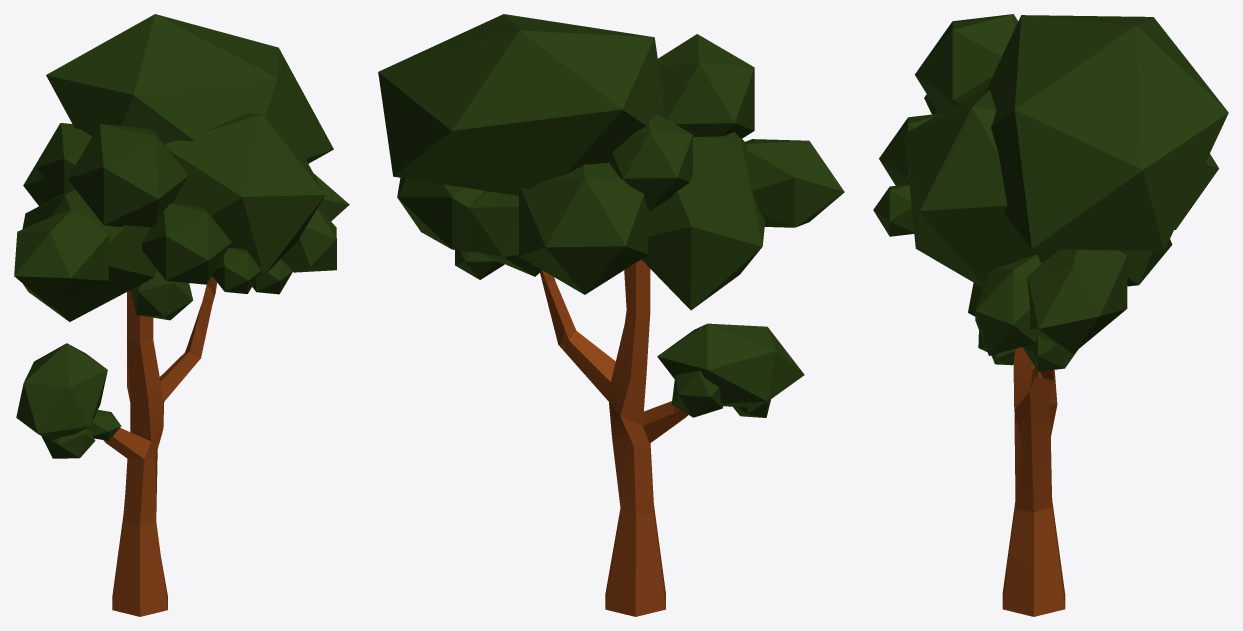
3 views of the same model, side by side, from view 1: azimuth 30°, elevation 25°; view 2: azimuth 150°, elevation 25°; view 3: azimuth 270°, elevation 25° (orthographic). The views are drawn at different scales.
Parts seen in each view (by area): view 1: polySurface145, polySurface147, polySurface156, polySurface148, polySurface140, polySurface134, polySurface152, polySurface151, polySurface164, polySurface161, polySurface143, polySurface141 (+17 smaller); view 2: polySurface144, polySurface143, polySurface141, polySurface157, polySurface145, polySurface156, polySurface125, polySurface158, polySurface153, polySurface163, polySurface140, polySurface150 (+15 smaller); view 3: polySurface143, polySurface147, polySurface145, polySurface163, polySurface151, polySurface154, polySurface135, polySurface153, polySurface164, polySurface146, polySurface124, polySurface134 (+9 smaller).
Boxes of the visible parts, left/top/right/bottom form: polySurface145: left=46, top=14, right=277, bottom=143; polySurface147: left=211, top=114, right=325, bottom=276; polySurface156: left=16, top=343, right=107, bottom=440; polySurface148: left=164, top=113, right=262, bottom=215; polySurface140: left=14, top=209, right=108, bottom=306; polySurface134: left=142, top=203, right=231, bottom=284; polySurface152: left=67, top=124, right=188, bottom=227; polySurface151: left=100, top=124, right=188, bottom=199; polySurface164: left=112, top=522, right=167, bottom=616; polySurface161: left=123, top=387, right=164, bottom=525; polySurface143: left=156, top=14, right=333, bottom=148; polySurface141: left=22, top=195, right=153, bottom=321; polySurface144: left=393, top=30, right=646, bottom=195; polySurface143: left=378, top=14, right=519, bottom=176; polySurface141: left=641, top=139, right=765, bottom=310; polySurface157: left=519, top=177, right=625, bottom=294; polySurface145: left=504, top=14, right=663, bottom=125; polySurface156: left=707, top=323, right=804, bottom=401; polySurface125: left=609, top=114, right=692, bottom=210; polySurface158: left=543, top=162, right=648, bottom=294; polySurface153: left=397, top=178, right=485, bottom=252; polySurface163: left=609, top=402, right=658, bottom=562; polySurface140: left=745, top=139, right=844, bottom=227; polySurface150: left=659, top=63, right=734, bottom=136; polySurface143: left=1014, top=25, right=1228, bottom=250; polySurface147: left=904, top=107, right=1015, bottom=287; polySurface145: left=986, top=15, right=1152, bottom=127; polySurface163: left=1009, top=392, right=1058, bottom=571; polySurface151: left=915, top=14, right=1013, bottom=100; polySurface154: left=1027, top=249, right=1099, bottom=354; polySurface135: left=975, top=254, right=1041, bottom=355; polySurface153: left=1072, top=249, right=1127, bottom=353; polySurface164: left=1002, top=539, right=1065, bottom=616; polySurface146: left=991, top=110, right=1031, bottom=248; polySurface124: left=873, top=184, right=914, bottom=236; polySurface134: left=879, top=113, right=939, bottom=185.
Bounding box in the file's own units: 235 × 328 × 173.
